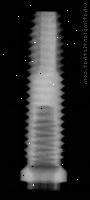Sterngold: (20, 10, 68, 190)
